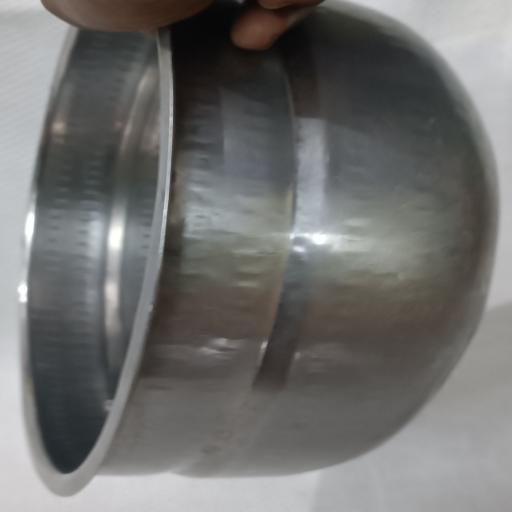vessel: (19, 5, 496, 494)
